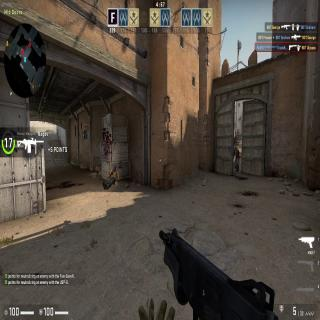CT-Body: (234, 145, 240, 173)
CT-Head: (234, 146, 236, 150)
